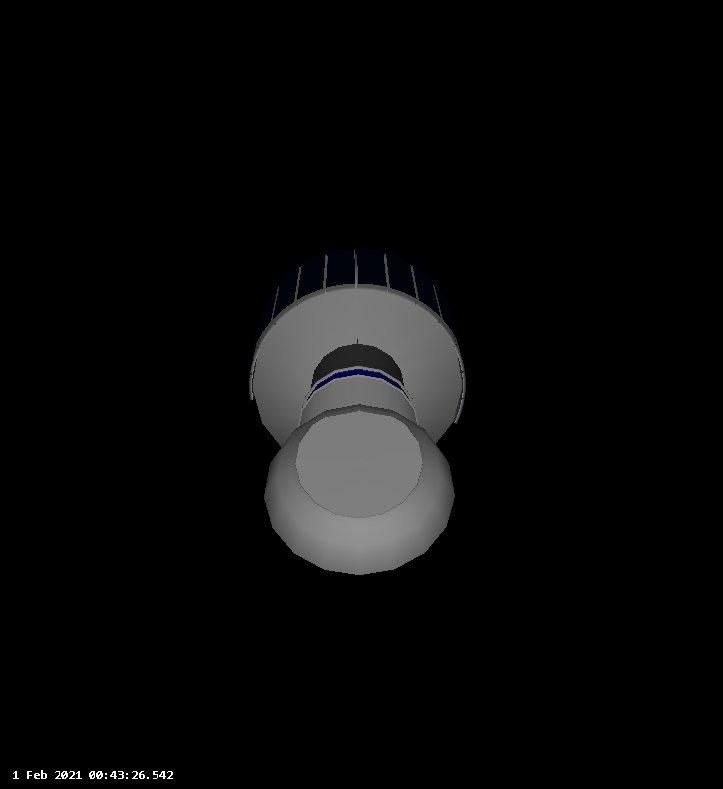body: (250, 244, 466, 455)
solar: (253, 245, 464, 362)
thruster: (259, 389, 473, 577)
